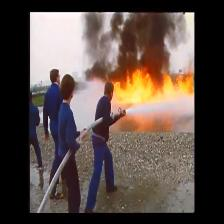fire: (107, 70, 194, 105)
